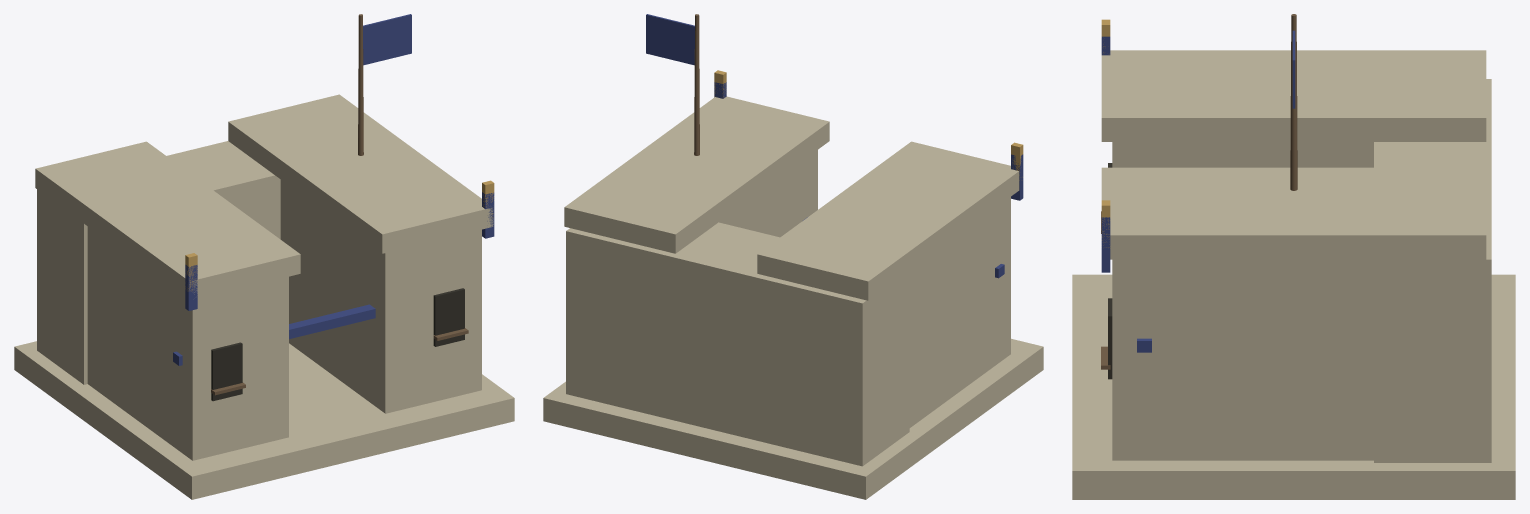
File: b-barracks-persian.glb
3 renders of one model, left to right at view 1: azimuth 30°, elevation 25°; view 2: azimuth 150°, elevation 25°; view 3: azimuth 270°, elevation 25°, orthographic. The views are drawn at different scales.
Visible parts, largest first — view 1: Structure, era1, era3; view 2: Structure; view 3: Structure, era2.
Boxes of the visible parts, left/top/right/bottom form: Structure: left=14, top=14, right=514, bottom=499; era1: left=185, top=201, right=494, bottom=310; era3: left=185, top=180, right=494, bottom=291; Structure: left=543, top=14, right=1043, bottom=499; Structure: left=1072, top=14, right=1515, bottom=499; era2: left=1101, top=36, right=1110, bottom=260.
Bounding box in the file's own units: 4.35 × 4.6 × 4.15.
